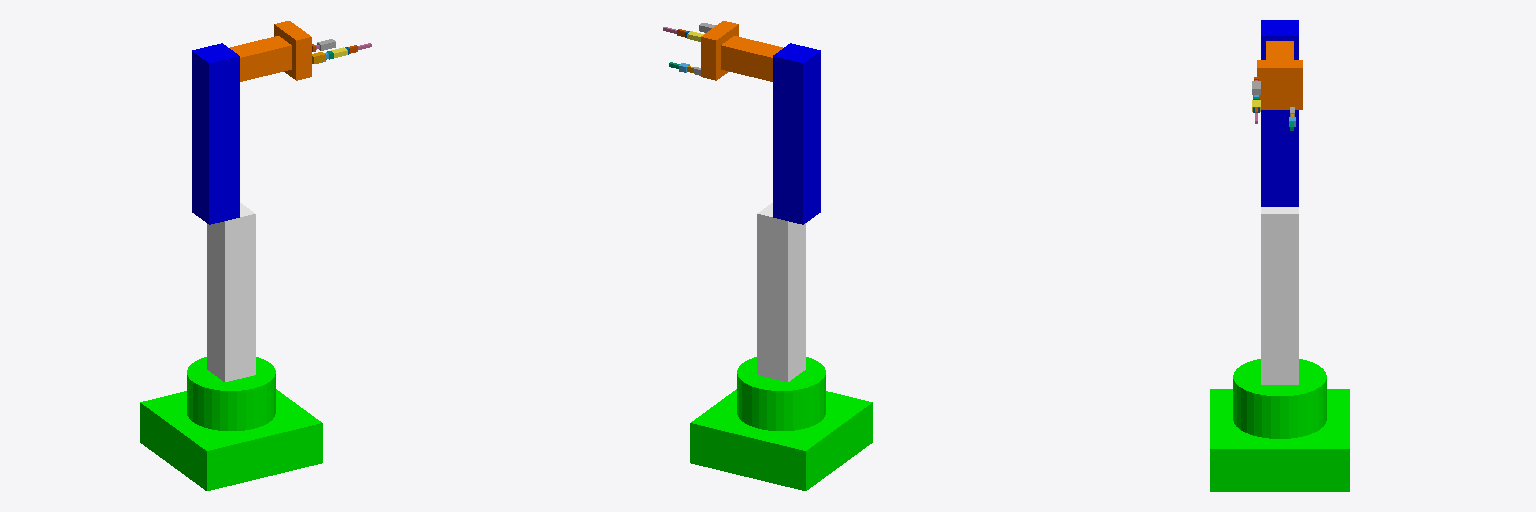
URDF robot description (robot):
<?xml version='1.0' encoding='utf-8'?>
<robot name="robot">
  <link name="base_link">
    <visual>
      <origin xyz="0 0 0.125" rpy="0 0 0" />
      <geometry>
        <box size="0.75 0.75 0.25" />
      </geometry>
      <material name="green" />
    </visual>
    <visual>
      <origin xyz="0 0 0.375" rpy="0 0 0" />
      <geometry>
        <cylinder length="0.25" radius="0.25" />
      </geometry>
      <material name="green">
        <color rgba="0 1 0 1" />
      </material>
    </visual>
    <collision>
      <geometry>
        <box size="0.75 0.75 0.5" />
      </geometry>
    </collision>
    <inertial>
      <mass value="0.5" />
      <inertia ixx="0.034" ixy="0.0" ixz="0.0" iyy="0.034" iyz="0.0" izz="0.034" />
    </inertial>
  </link>
  <link name="support_link">
    <visual>
      <origin xyz="0 0 0.5" rpy="0 0 0" />
      <geometry>
        <box size="0.2 0.2 1" />
      </geometry>
      <material name="white">
        <color rgba="1 1 1 1" />
      </material>
    </visual>
    <collision>
      <geometry>
        <box size="0.2 0.2 1" />
      </geometry>
    </collision>
    <inertial>
      <mass value="0.1" />
      <inertia ixx="0.01" ixy="0.0" ixz="0.0" iyy="0.01" iyz="0.0" izz="0.01" />
    </inertial>
  </link>
  <joint name="support_joint" type="continuous">
    <origin xyz="0 0 0.5" rpy="0 0 0" />
    <parent link="base_link" />
    <child link="support_link" />
    <axis xyz="0 0 1" />
  </joint>
  <link name="arm_link">
    <visual>
      <origin xyz="0 0 0.5" rpy="0 0 0" />
      <geometry>
        <box size="0.2 0.2 1" />
      </geometry>
      <material name="blue">
        <color rgba="0 0 1 1" />
      </material>
    </visual>
    <collision>
      <geometry>
        <box size="0.2 0.2 1" />
      </geometry>
    </collision>
    <inertial>
      <mass value="0.1" />
      <inertia ixx="0.01" ixy="0.0" ixz="0.0" iyy="0.01" iyz="0.0" izz="0.01" />
    </inertial>
  </link>
  <joint name="arm_joint" type="revolute">
    <origin xyz="-0.1 0 1" rpy="0 0 0" />
    <parent link="support_link" />
    <child link="arm_link" />
    <axis xyz="0 1 0" />
    <limit lower="-3.14" upper="3.14" effort="1.0" velocity="1.0" />
  </joint>
  <link name="wrist_link">
    <visual>
      <origin xyz="0 0 0.25" rpy="0 0 0" />
      <geometry>
        <box size="0.15 0.15 0.5" />
      </geometry>
      <material name="orange">
        <color rgba="1 0.5 0 1" />
      </material>
    </visual>
    <collision>
      <geometry>
        <box size="0.15 0.15 0.5" />
      </geometry>
    </collision>
    <inertial>
      <mass value="0.1" />
      <inertia ixx="0.01" ixy="0.0" ixz="0.0" iyy="0.01" iyz="0.0" izz="0.01" />
    </inertial>
  </link>
  <joint name="wrist_joint" type="fixed">
    <origin xyz="0 0 0.9" rpy="0 1.571 0" />
    <parent link="arm_link" />
    <child link="wrist_link" />
  </joint>
  <link name="palm_link">
    <visual>
      <origin xyz="0 0 0.05" rpy="0 0 0" />
      <geometry>
        <box size="0.25 0.25 0.1" />
      </geometry>
      <material name="orange" />
    </visual>
    <collision>
      <geometry>
        <box size="0.25 0.25 0.1" />
      </geometry>
    </collision>
    <inertial>
      <mass value="0.1" />
      <inertia ixx="0.01" ixy="0.0" ixz="0.0" iyy="0.01" iyz="0.0" izz="0.01" />
    </inertial>
  </link>
  <joint name="palm_joint" type="fixed">
    <origin xyz="0 0 0.45" rpy="0 0 0" />
    <parent link="wrist_link" />
    <child link="palm_link" />
  </joint>
  <link name="finger_link_0_0">
    <visual>
      <origin xyz="0 0 0.01" rpy="0 0 0" />
      <geometry>
        <box size="0.033 0.031 0.02" />
      </geometry>
    </visual>
    <collision>
      <geometry>
        <box size="0.033 0.031 0.02" />
      </geometry>
    </collision>
    <inertial>
      <mass value="0.006" />
      <inertia ixx="0.0" iyy="0.0" izz="0.0" ixy="0" ixz="0" iyz="0" />
    </inertial>
  </link>
  <joint name="finger_joint_palm_link_to_finger_link_0_0" type="revolute">
    <origin xyz="-0.052 -0.125 0.1" rpy="0 0 0" />
    <parent link="palm_link" />
    <child link="finger_link_0_0" />
    <axis xyz="1.0 0.0 0.0" />
    <limit lower="-3.142" upper="3.142" effort="10" velocity="10" />
  </joint>
  <link name="finger_link_0_1">
    <visual>
      <origin xyz="0 0 0.0135" rpy="0 0 0" />
      <geometry>
        <box size="0.022 0.012 0.027" />
      </geometry>
    </visual>
    <collision>
      <geometry>
        <box size="0.022 0.012 0.027" />
      </geometry>
    </collision>
    <inertial>
      <mass value="0.002" />
      <inertia ixx="0.0" iyy="0.0" izz="0.0" ixy="0" ixz="0" iyz="0" />
    </inertial>
  </link>
  <joint name="finger_joint_finger_link_0_0_to_finger_link_0_1" type="revolute">
    <origin xyz="0.0 0.0 0.02" rpy="0 0 0" />
    <parent link="finger_link_0_0" />
    <child link="finger_link_0_1" />
    <axis xyz="0.0 1.0 0.0" />
    <limit lower="-3.142" upper="3.142" effort="10" velocity="10" />
  </joint>
  <link name="finger_link_0_2">
    <visual>
      <origin xyz="0 0 0.049" rpy="0 0 0" />
      <geometry>
        <box size="0.038 0.043 0.098" />
      </geometry>
    </visual>
    <collision>
      <geometry>
        <box size="0.038 0.043 0.098" />
      </geometry>
    </collision>
    <inertial>
      <mass value="0.048" />
      <inertia ixx="0.0" iyy="0.0" izz="0.0" ixy="0" ixz="0" iyz="0" />
    </inertial>
  </link>
  <joint name="finger_joint_finger_link_0_1_to_finger_link_0_2" type="revolute">
    <origin xyz="0.0 0.0 0.027" rpy="0 0 0" />
    <parent link="finger_link_0_1" />
    <child link="finger_link_0_2" />
    <axis xyz="0.0 1.0 0.0" />
    <limit lower="-3.142" upper="3.142" effort="10" velocity="10" />
  </joint>
  <link name="finger_link_1_0">
    <visual>
      <origin xyz="0 0 0.0385" rpy="0 0 0" />
      <geometry>
        <box size="0.046 0.041 0.077" />
      </geometry>
    </visual>
    <collision>
      <geometry>
        <box size="0.046 0.041 0.077" />
      </geometry>
    </collision>
    <inertial>
      <mass value="0.044" />
      <inertia ixx="0.0" iyy="0.0" izz="0.0" ixy="0" ixz="0" iyz="0" />
    </inertial>
  </link>
  <joint name="finger_joint_palm_link_to_finger_link_1_0" type="revolute">
    <origin xyz="0.016 -0.125 0.1" rpy="0 0 0" />
    <parent link="palm_link" />
    <child link="finger_link_1_0" />
    <axis xyz="1.0 0.0 0.0" />
    <limit lower="-3.142" upper="3.142" effort="10" velocity="10" />
  </joint>
  <link name="finger_link_1_1">
    <visual>
      <origin xyz="0 0 0.0125" rpy="0 0 0" />
      <geometry>
        <box size="0.03 0.024 0.025" />
      </geometry>
    </visual>
    <collision>
      <geometry>
        <box size="0.03 0.024 0.025" />
      </geometry>
    </collision>
    <inertial>
      <mass value="0.005" />
      <inertia ixx="0.0" iyy="0.0" izz="0.0" ixy="0" ixz="0" iyz="0" />
    </inertial>
  </link>
  <joint name="finger_joint_finger_link_1_0_to_finger_link_1_1" type="revolute">
    <origin xyz="0.0 0.0 0.077" rpy="0 0 0" />
    <parent link="finger_link_1_0" />
    <child link="finger_link_1_1" />
    <axis xyz="1.0 0.0 0.0" />
    <limit lower="-3.142" upper="3.142" effort="10" velocity="10" />
  </joint>
  <link name="finger_link_1_2">
    <visual>
      <origin xyz="0 0 0.015" rpy="0 0 0" />
      <geometry>
        <box size="0.035 0.034 0.03" />
      </geometry>
    </visual>
    <collision>
      <geometry>
        <box size="0.035 0.034 0.03" />
      </geometry>
    </collision>
    <inertial>
      <mass value="0.011" />
      <inertia ixx="0.0" iyy="0.0" izz="0.0" ixy="0" ixz="0" iyz="0" />
    </inertial>
  </link>
  <joint name="finger_joint_finger_link_1_1_to_finger_link_1_2" type="revolute">
    <origin xyz="0.0 0.0 0.025" rpy="0 0 0" />
    <parent link="finger_link_1_1" />
    <child link="finger_link_1_2" />
    <axis xyz="0.0 1.0 0.0" />
    <limit lower="-3.142" upper="3.142" effort="10" velocity="10" />
  </joint>
  <link name="finger_link_1_3">
    <visual>
      <origin xyz="0 0 0.045" rpy="0 0 0" />
      <geometry>
        <box size="0.03 0.045 0.09" />
      </geometry>
    </visual>
    <collision>
      <geometry>
        <box size="0.03 0.045 0.09" />
      </geometry>
    </collision>
    <inertial>
      <mass value="0.036" />
      <inertia ixx="0.0" iyy="0.0" izz="0.0" ixy="0" ixz="0" iyz="0" />
    </inertial>
  </link>
  <joint name="finger_joint_finger_link_1_2_to_finger_link_1_3" type="revolute">
    <origin xyz="0.0 0.0 0.03" rpy="0 0 0" />
    <parent link="finger_link_1_2" />
    <child link="finger_link_1_3" />
    <axis xyz="0.0 1.0 0.0" />
    <limit lower="-3.142" upper="3.142" effort="10" velocity="10" />
  </joint>
  <link name="finger_link_1_4">
    <visual>
      <origin xyz="0 0 0.007" rpy="0 0 0" />
      <geometry>
        <box size="0.032 0.033 0.014" />
      </geometry>
    </visual>
    <collision>
      <geometry>
        <box size="0.032 0.033 0.014" />
      </geometry>
    </collision>
    <inertial>
      <mass value="0.004" />
      <inertia ixx="0.0" iyy="0.0" izz="0.0" ixy="0" ixz="0" iyz="0" />
    </inertial>
  </link>
  <joint name="finger_joint_finger_link_1_3_to_finger_link_1_4" type="revolute">
    <origin xyz="0.0 0.0 0.09" rpy="0 0 0" />
    <parent link="finger_link_1_3" />
    <child link="finger_link_1_4" />
    <axis xyz="0.0 1.0 0.0" />
    <limit lower="-3.142" upper="3.142" effort="10" velocity="10" />
  </joint>
  <link name="finger_link_1_5">
    <visual>
      <origin xyz="0 0 0.0285" rpy="0 0 0" />
      <geometry>
        <box size="0.036 0.017 0.057" />
      </geometry>
    </visual>
    <collision>
      <geometry>
        <box size="0.036 0.017 0.057" />
      </geometry>
    </collision>
    <inertial>
      <mass value="0.01" />
      <inertia ixx="0.0" iyy="0.0" izz="0.0" ixy="0" ixz="0" iyz="0" />
    </inertial>
  </link>
  <joint name="finger_joint_finger_link_1_4_to_finger_link_1_5" type="revolute">
    <origin xyz="0.0 0.0 0.014" rpy="0 0 0" />
    <parent link="finger_link_1_4" />
    <child link="finger_link_1_5" />
    <axis xyz="0.0 1.0 0.0" />
    <limit lower="-3.142" upper="3.142" effort="10" velocity="10" />
  </joint>
  <link name="finger_link_1_6">
    <visual>
      <origin xyz="0 0 0.046" rpy="0 0 0" />
      <geometry>
        <box size="0.02 0.015 0.092" />
      </geometry>
    </visual>
    <collision>
      <geometry>
        <box size="0.02 0.015 0.092" />
      </geometry>
    </collision>
    <inertial>
      <mass value="0.008" />
      <inertia ixx="0.0" iyy="0.0" izz="0.0" ixy="0" ixz="0" iyz="0" />
    </inertial>
  </link>
  <joint name="finger_joint_finger_link_1_5_to_finger_link_1_6" type="revolute">
    <origin xyz="0.0 0.0 0.057" rpy="0 0 0" />
    <parent link="finger_link_1_5" />
    <child link="finger_link_1_6" />
    <axis xyz="0.0 1.0 0.0" />
    <limit lower="-3.142" upper="3.142" effort="10" velocity="10" />
  </joint>
  <link name="finger_link_2_0">
    <visual>
      <origin xyz="0 0 0.037" rpy="0 0 0" />
      <geometry>
        <box size="0.036 0.024 0.074" />
      </geometry>
    </visual>
    <collision>
      <geometry>
        <box size="0.036 0.024 0.074" />
      </geometry>
    </collision>
    <inertial>
      <mass value="0.019" />
      <inertia ixx="0.0" iyy="0.0" izz="0.0" ixy="0" ixz="0" iyz="0" />
    </inertial>
  </link>
  <joint name="finger_joint_palm_link_to_finger_link_2_0" type="revolute">
    <origin xyz="0.125 0.066 0.1" rpy="0 0 0" />
    <parent link="palm_link" />
    <child link="finger_link_2_0" />
    <axis xyz="0.0 -1.0 0.0" />
    <limit lower="-3.142" upper="3.142" effort="10" velocity="10" />
  </joint>
  <link name="finger_link_2_1">
    <visual>
      <origin xyz="0 0 0.023" rpy="0 0 0" />
      <geometry>
        <box size="0.032 0.012 0.046" />
      </geometry>
    </visual>
    <collision>
      <geometry>
        <box size="0.032 0.012 0.046" />
      </geometry>
    </collision>
    <inertial>
      <mass value="0.005" />
      <inertia ixx="0.0" iyy="0.0" izz="0.0" ixy="0" ixz="0" iyz="0" />
    </inertial>
  </link>
  <joint name="finger_joint_finger_link_2_0_to_finger_link_2_1" type="revolute">
    <origin xyz="0.0 0.0 0.074" rpy="0 0 0" />
    <parent link="finger_link_2_0" />
    <child link="finger_link_2_1" />
    <axis xyz="0.0 1.0 0.0" />
    <limit lower="-3.142" upper="3.142" effort="10" velocity="10" />
  </joint>
  <link name="finger_link_2_2">
    <visual>
      <origin xyz="0 0 0.024" rpy="0 0 0" />
      <geometry>
        <box size="0.037 0.041 0.048" />
      </geometry>
    </visual>
    <collision>
      <geometry>
        <box size="0.037 0.041 0.048" />
      </geometry>
    </collision>
    <inertial>
      <mass value="0.022" />
      <inertia ixx="0.0" iyy="0.0" izz="0.0" ixy="0" ixz="0" iyz="0" />
    </inertial>
  </link>
  <joint name="finger_joint_finger_link_2_1_to_finger_link_2_2" type="revolute">
    <origin xyz="0.0 0.0 0.046" rpy="0 0 0" />
    <parent link="finger_link_2_1" />
    <child link="finger_link_2_2" />
    <axis xyz="0.0 1.0 0.0" />
    <limit lower="-3.142" upper="3.142" effort="10" velocity="10" />
  </joint>
  <link name="finger_link_2_3">
    <visual>
      <origin xyz="0 0 0.035" rpy="0 0 0" />
      <geometry>
        <box size="0.022 0.022 0.07" />
      </geometry>
    </visual>
    <collision>
      <geometry>
        <box size="0.022 0.022 0.07" />
      </geometry>
    </collision>
    <inertial>
      <mass value="0.01" />
      <inertia ixx="0.0" iyy="0.0" izz="0.0" ixy="0" ixz="0" iyz="0" />
    </inertial>
  </link>
  <joint name="finger_joint_finger_link_2_2_to_finger_link_2_3" type="revolute">
    <origin xyz="0.0 0.0 0.048" rpy="0 0 0" />
    <parent link="finger_link_2_2" />
    <child link="finger_link_2_3" />
    <axis xyz="1.0 0.0 0.0" />
    <limit lower="-3.142" upper="3.142" effort="10" velocity="10" />
  </joint>
</robot>

--- Render facts (derived) ---
3 views of the same robot in one strip: view 1: azimuth 30°, elevation 25°; view 2: azimuth 150°, elevation 25°; view 3: azimuth 270°, elevation 25° (orthographic).
Model robot with 19 links and 18 joints (15 revolute, 1 continuous, 2 fixed), rooted at base_link, posed all joints at 0.
Links seen in each view (by area): view 1: base_link, arm_link, support_link, wrist_link, palm_link; view 2: base_link, arm_link, support_link, wrist_link, palm_link; view 3: base_link, support_link, arm_link, palm_link, wrist_link.
Boxes of the visible links, x1,y1,x2,y2 form: base_link: (140, 357, 322, 490); arm_link: (192, 43, 239, 224); support_link: (207, 203, 255, 381); wrist_link: (230, 36, 291, 81); palm_link: (274, 21, 311, 80); base_link: (690, 357, 872, 490); arm_link: (773, 43, 820, 224); support_link: (757, 203, 805, 381); wrist_link: (721, 36, 782, 81); palm_link: (701, 21, 738, 80); base_link: (1210, 359, 1349, 491); support_link: (1261, 207, 1298, 384); arm_link: (1261, 20, 1298, 206); palm_link: (1257, 60, 1302, 109); wrist_link: (1266, 41, 1293, 59).
Size in the robot's own frame: 1.21 by 0.75 by 2.52 metres.
Geometry: primitives only (box / cylinder / sphere), no mesh files.
